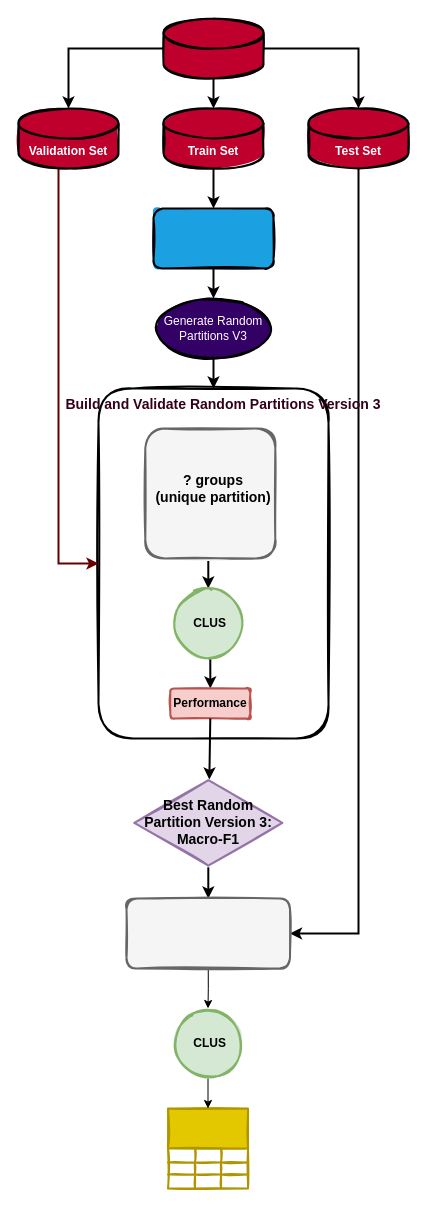
This 426x1206 diagram has some shape labels left out. The shapes that lost their labels are listed below. From the top down, each one's centre as x and y in pixels, then its label:
At point 213,48: "Dataset".
At point 213,238: "Label Space".
At point 207,933: "Build and Test the best random partition version 3".
At point 207,1148: "Results".
